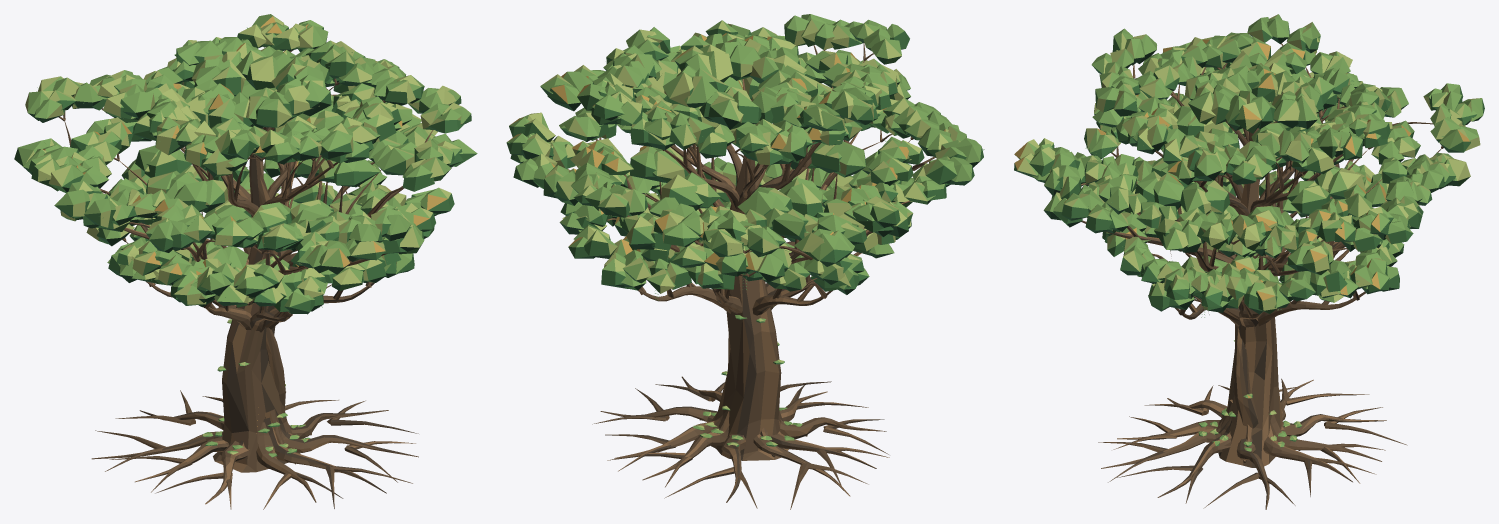
The model's file is Yggdrasil_LOD1.fbx.
3 views of the same model, side by side, from view 1: azimuth 30°, elevation 25°; view 2: azimuth 150°, elevation 25°; view 3: azimuth 270°, elevation 25° (orthographic). The views are drawn at different scales.
Parts seen in each view (by area): view 1: YGG_Foliage_Tier_2_LOD1, YGG_Foliage_Tier_3_LOD1, YGG_Foliage_Tier_1_LOD1, YGG_Foliage_Tier_4_LOD1, YGG_AncientTrunk_LOD1, YGG_CrownBranches_Tier_2_LOD1, YGG_CrownBranches_Tier_3_LOD1, YGG_CrownBranches_Tier_1_LOD1, YGG_Root_09_LOD1, YGG_Root_10_LOD1, YGG_Root_08_LOD1, YGG_Root_01_LOD1 (+6 smaller); view 2: YGG_Foliage_Tier_2_LOD1, YGG_Foliage_Tier_3_LOD1, YGG_Foliage_Tier_1_LOD1, YGG_Foliage_Tier_4_LOD1, YGG_AncientTrunk_LOD1, YGG_CrownBranches_Tier_3_LOD1, YGG_CrownBranches_Tier_1_LOD1, YGG_CrownBranches_Tier_2_LOD1, YGG_Root_03_LOD1, YGG_Root_07_LOD1, YGG_Root_05_LOD1, YGG_Root_04_LOD1 (+5 smaller); view 3: YGG_Foliage_Tier_2_LOD1, YGG_Foliage_Tier_3_LOD1, YGG_Foliage_Tier_1_LOD1, YGG_Foliage_Tier_4_LOD1, YGG_AncientTrunk_LOD1, YGG_CrownBranches_Tier_2_LOD1, YGG_CrownBranches_Tier_3_LOD1, YGG_CrownBranches_Tier_1_LOD1, YGG_IntertwinedLeaders_LOD1, YGG_Root_09_LOD1, YGG_Root_04_LOD1, YGG_Root_02_LOD1 (+7 smaller).
Boxes of the visible parts, left/top/right/bottom form: YGG_Foliage_Tier_2_LOD1: left=14, top=51, right=477, bottom=274; YGG_Foliage_Tier_3_LOD1: left=97, top=14, right=424, bottom=177; YGG_Foliage_Tier_1_LOD1: left=86, top=159, right=434, bottom=314; YGG_Foliage_Tier_4_LOD1: left=182, top=46, right=331, bottom=128; YGG_AncientTrunk_LOD1: left=213, top=155, right=300, bottom=472; YGG_CrownBranches_Tier_2_LOD1: left=58, top=88, right=433, bottom=274; YGG_CrownBranches_Tier_3_LOD1: left=180, top=50, right=385, bottom=215; YGG_CrownBranches_Tier_1_LOD1: left=122, top=177, right=374, bottom=332; YGG_Root_09_LOD1: left=263, top=409, right=412, bottom=508; YGG_Root_10_LOD1: left=281, top=429, right=418, bottom=482; YGG_Root_08_LOD1: left=256, top=422, right=343, bottom=509; YGG_Root_01_LOD1: left=289, top=400, right=418, bottom=438; YGG_Foliage_Tier_2_LOD1: left=506, top=58, right=983, bottom=266; YGG_Foliage_Tier_3_LOD1: left=577, top=14, right=909, bottom=165; YGG_Foliage_Tier_1_LOD1: left=559, top=151, right=914, bottom=294; YGG_Foliage_Tier_4_LOD1: left=663, top=37, right=817, bottom=129; YGG_AncientTrunk_LOD1: left=711, top=155, right=788, bottom=460; YGG_CrownBranches_Tier_3_LOD1: left=662, top=43, right=873, bottom=211; YGG_CrownBranches_Tier_1_LOD1: left=607, top=192, right=862, bottom=315; YGG_CrownBranches_Tier_2_LOD1: left=567, top=99, right=935, bottom=264; YGG_Root_03_LOD1: left=607, top=410, right=729, bottom=487; YGG_Root_07_LOD1: left=780, top=417, right=888, bottom=454; YGG_Root_05_LOD1: left=753, top=428, right=868, bottom=509; YGG_Root_04_LOD1: left=664, top=434, right=757, bottom=508; YGG_Foliage_Tier_2_LOD1: left=1014, top=42, right=1484, bottom=275; YGG_Foliage_Tier_3_LOD1: left=1091, top=14, right=1391, bottom=184; YGG_Foliage_Tier_1_LOD1: left=1102, top=156, right=1404, bottom=314; YGG_Foliage_Tier_4_LOD1: left=1185, top=62, right=1335, bottom=133; YGG_AncientTrunk_LOD1: left=1218, top=131, right=1282, bottom=467; YGG_CrownBranches_Tier_2_LOD1: left=1081, top=119, right=1443, bottom=276; YGG_CrownBranches_Tier_3_LOD1: left=1132, top=43, right=1345, bottom=215; YGG_CrownBranches_Tier_1_LOD1: left=1140, top=211, right=1365, bottom=327; YGG_IntertwinedLeaders_LOD1: left=1234, top=250, right=1289, bottom=428; YGG_Root_09_LOD1: left=1098, top=399, right=1232, bottom=482; YGG_Root_04_LOD1: left=1281, top=407, right=1407, bottom=445; YGG_Root_02_LOD1: left=1263, top=424, right=1376, bottom=496.
Size of the model in its own units: 155 by 139 by 156.
